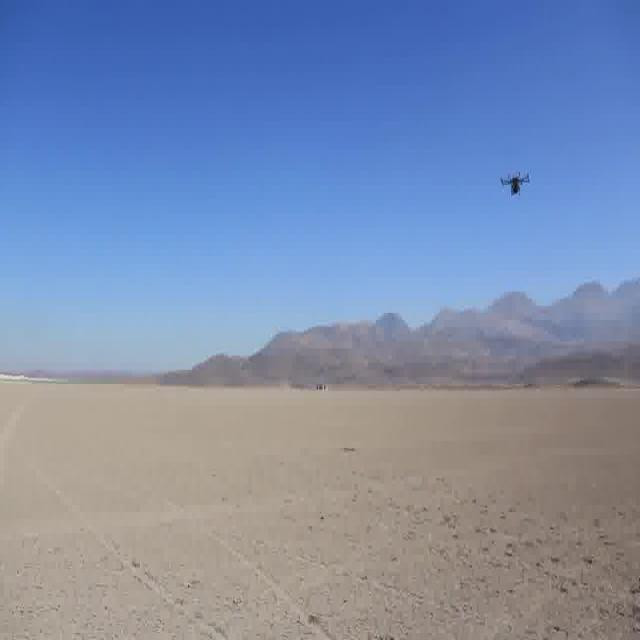drones: (495, 162, 534, 202)
